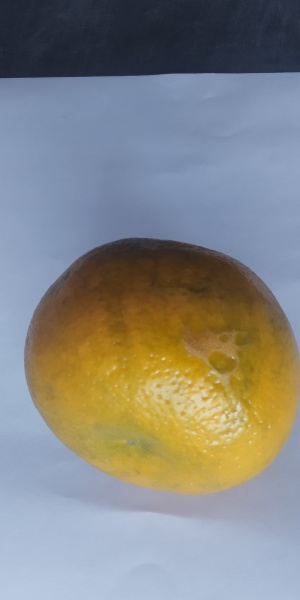BAD: (23, 235, 300, 502)
